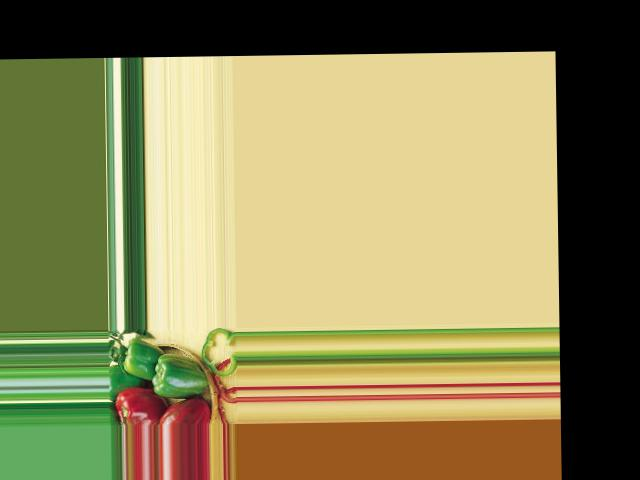bell_pepper: (157, 399, 211, 424)
